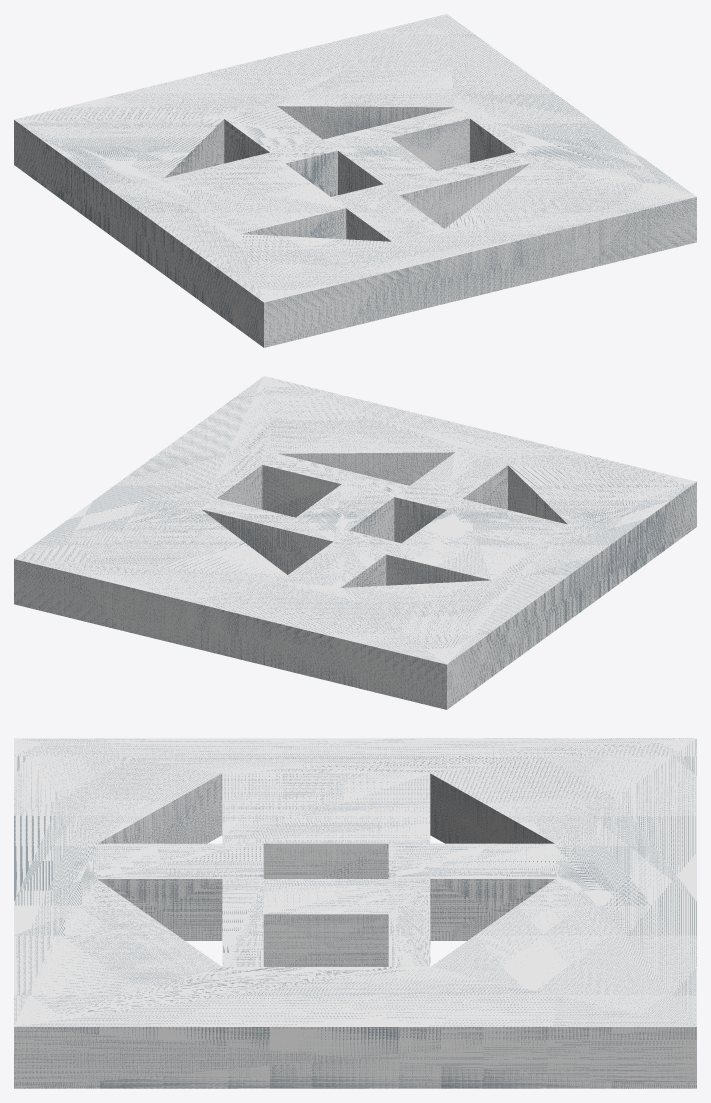
3 renders of one model, top to bottom at view 1: azimuth 30°, elevation 25°; view 2: azimuth 150°, elevation 25°; view 3: azimuth 270°, elevation 25°, orthographic. The views are drawn at different scales.
Parts seen in each view (by area): view 1: Model; view 2: Model; view 3: Model.
Boxes of the visible parts, box(x1,y1,x2,y2) form: Model: box(14, 14, 696, 347); Model: box(14, 376, 696, 709); Model: box(14, 738, 696, 1088).
Size of the model in its own units: 5 by 0.5 by 5.
